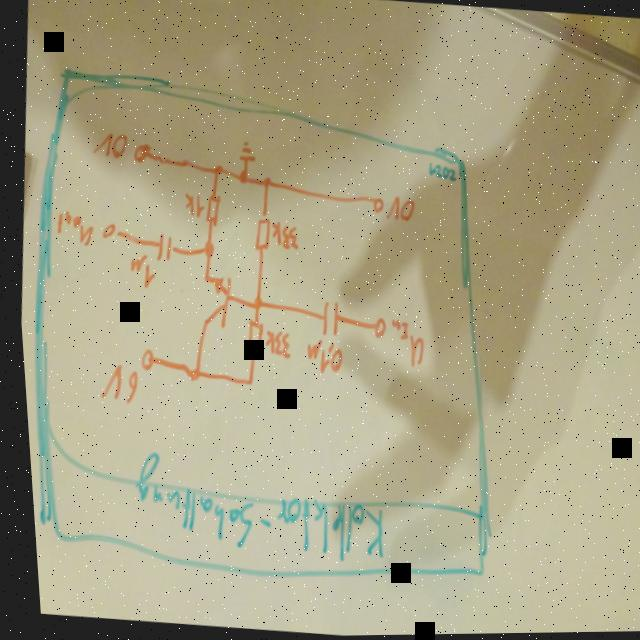capacitor: (308, 299, 342, 339), (147, 231, 174, 263)
ground: (232, 138, 256, 166)
junction: (181, 363, 200, 386), (196, 239, 213, 262), (207, 161, 223, 179), (257, 171, 271, 191), (246, 293, 259, 313), (234, 169, 247, 187), (239, 376, 251, 390)
resistor: (236, 315, 263, 363), (247, 212, 271, 257), (199, 189, 220, 232)
terminal: (125, 138, 149, 169), (361, 314, 384, 344), (94, 218, 119, 245), (131, 347, 155, 374), (365, 195, 384, 216)
text: (120, 447, 384, 569), (379, 315, 424, 373), (46, 205, 94, 250), (91, 361, 136, 407), (296, 338, 341, 378), (89, 126, 129, 162), (122, 252, 153, 292), (264, 219, 299, 254), (257, 328, 290, 362), (381, 195, 414, 226), (423, 160, 457, 186), (178, 190, 203, 221)
transistor: (192, 270, 232, 333)
